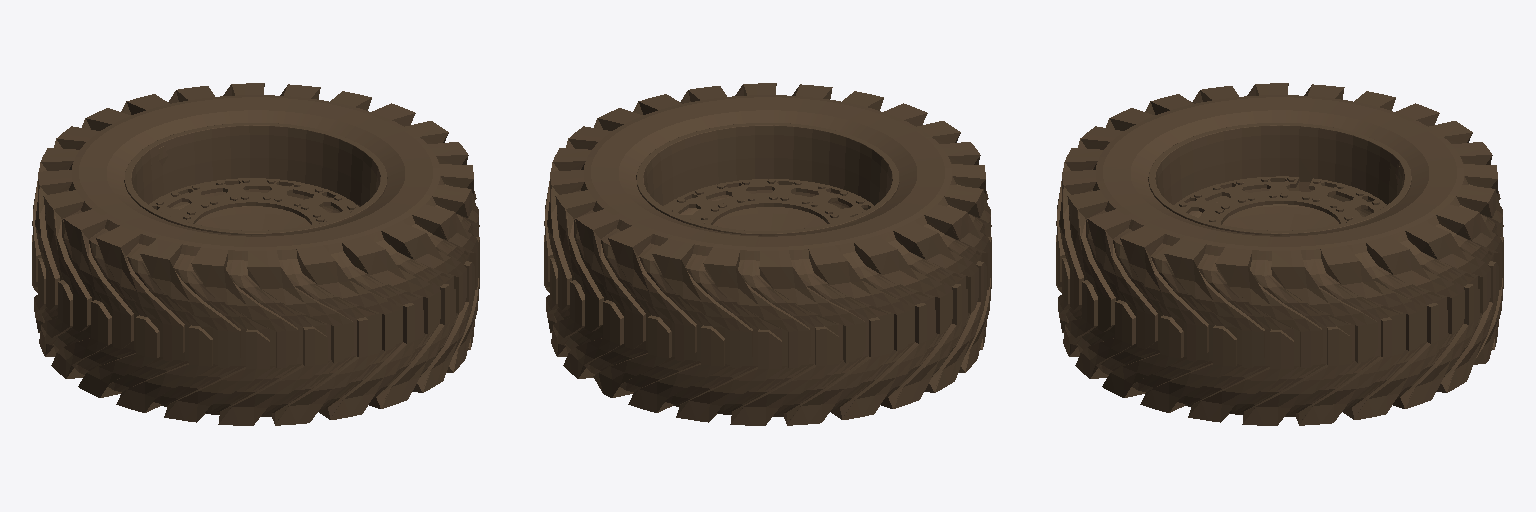
The model's file is deliverybot_wheel_right.obj.
The picture shows the model from 3 angles: view 1: azimuth 30°, elevation 25°; view 2: azimuth 150°, elevation 25°; view 3: azimuth 270°, elevation 25°; orthographic projection.
Parts seen in each view (by area): view 1: wheel.001; view 2: wheel.001; view 3: wheel.001.
Boxes of the visible parts, x1=… form: wheel.001: x1=32, y1=83, x2=479, y2=425; wheel.001: x1=544, y1=83, x2=991, y2=425; wheel.001: x1=1056, y1=83, x2=1503, y2=425.
Size of the model in its own units: 0.452 by 0.187 by 0.452.